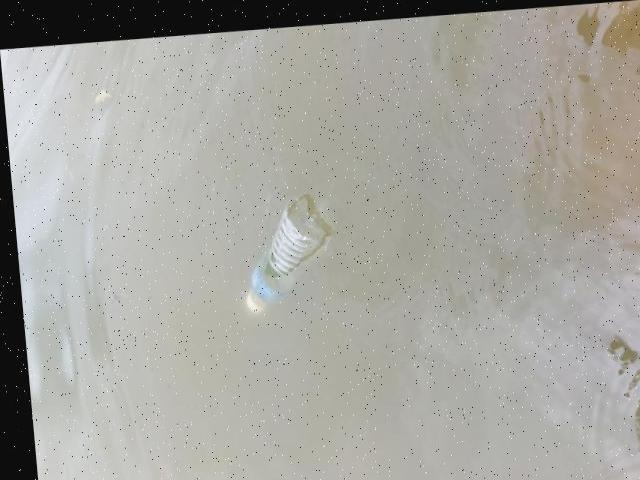Bottle: (224, 193, 328, 326)
